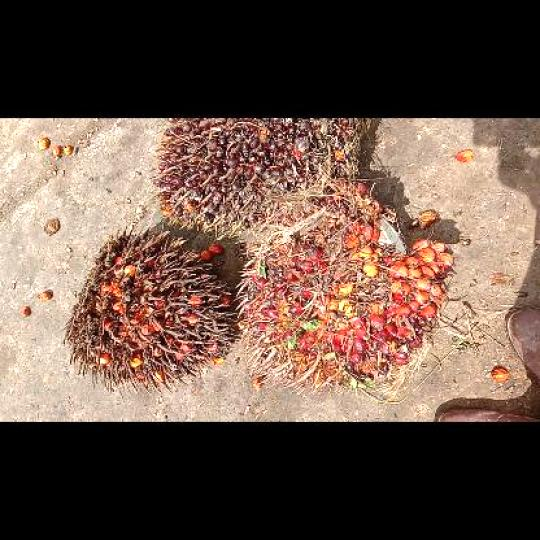kurang masak: (157, 117, 370, 236)
masak: (237, 180, 451, 386)
terlalu masak: (66, 230, 233, 385)
